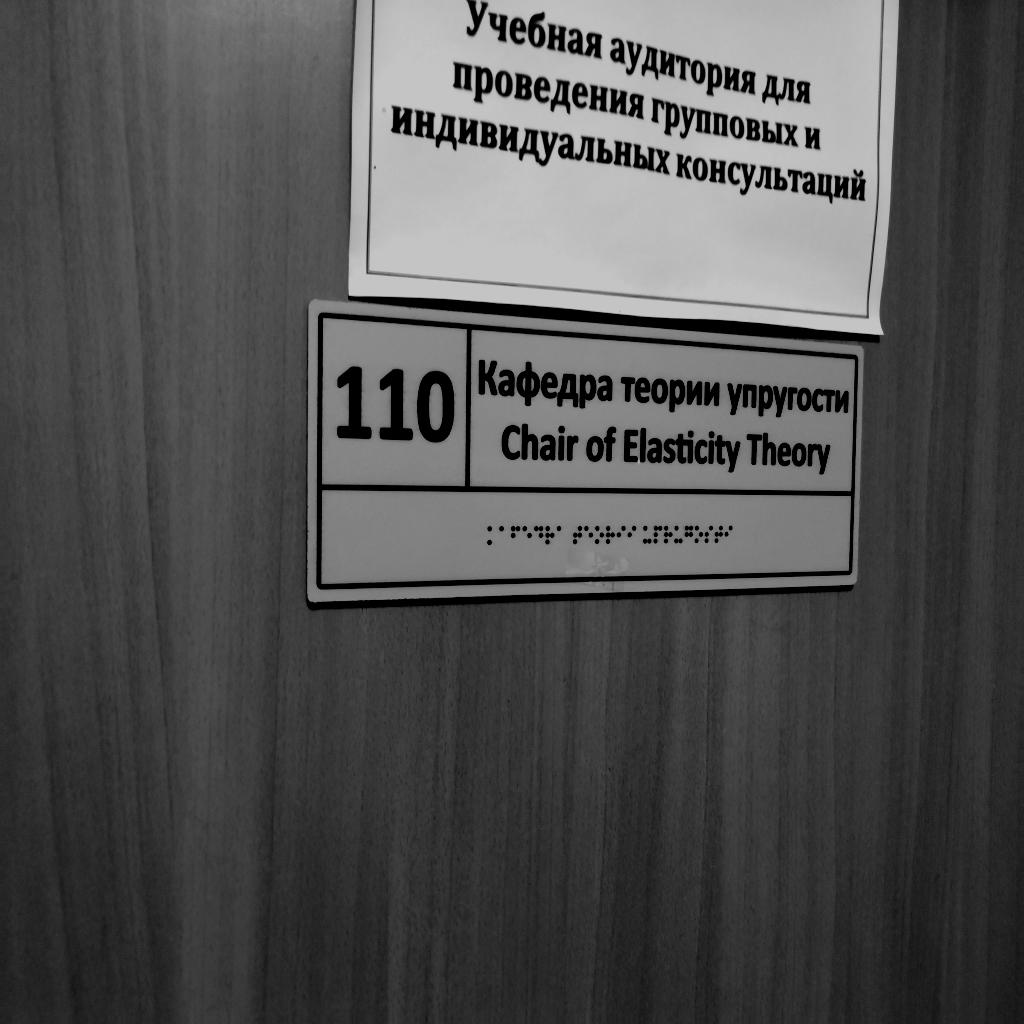_y: (674, 525, 683, 544), (643, 525, 651, 544)
a: (499, 526, 509, 546), (557, 526, 567, 545)
d: (534, 526, 543, 546)
e: (522, 526, 532, 546), (584, 526, 593, 545)
f: (511, 526, 520, 546)
g: (685, 525, 693, 545)
i: (617, 525, 626, 544), (628, 525, 637, 544), (725, 525, 733, 543)
k: (488, 526, 498, 545)
o: (595, 526, 604, 545), (695, 525, 703, 544)
p: (654, 526, 663, 544)
r: (545, 526, 555, 545), (606, 525, 615, 545), (664, 525, 673, 544)
s: (705, 526, 713, 544)
t: (573, 526, 582, 545), (715, 526, 723, 543)
